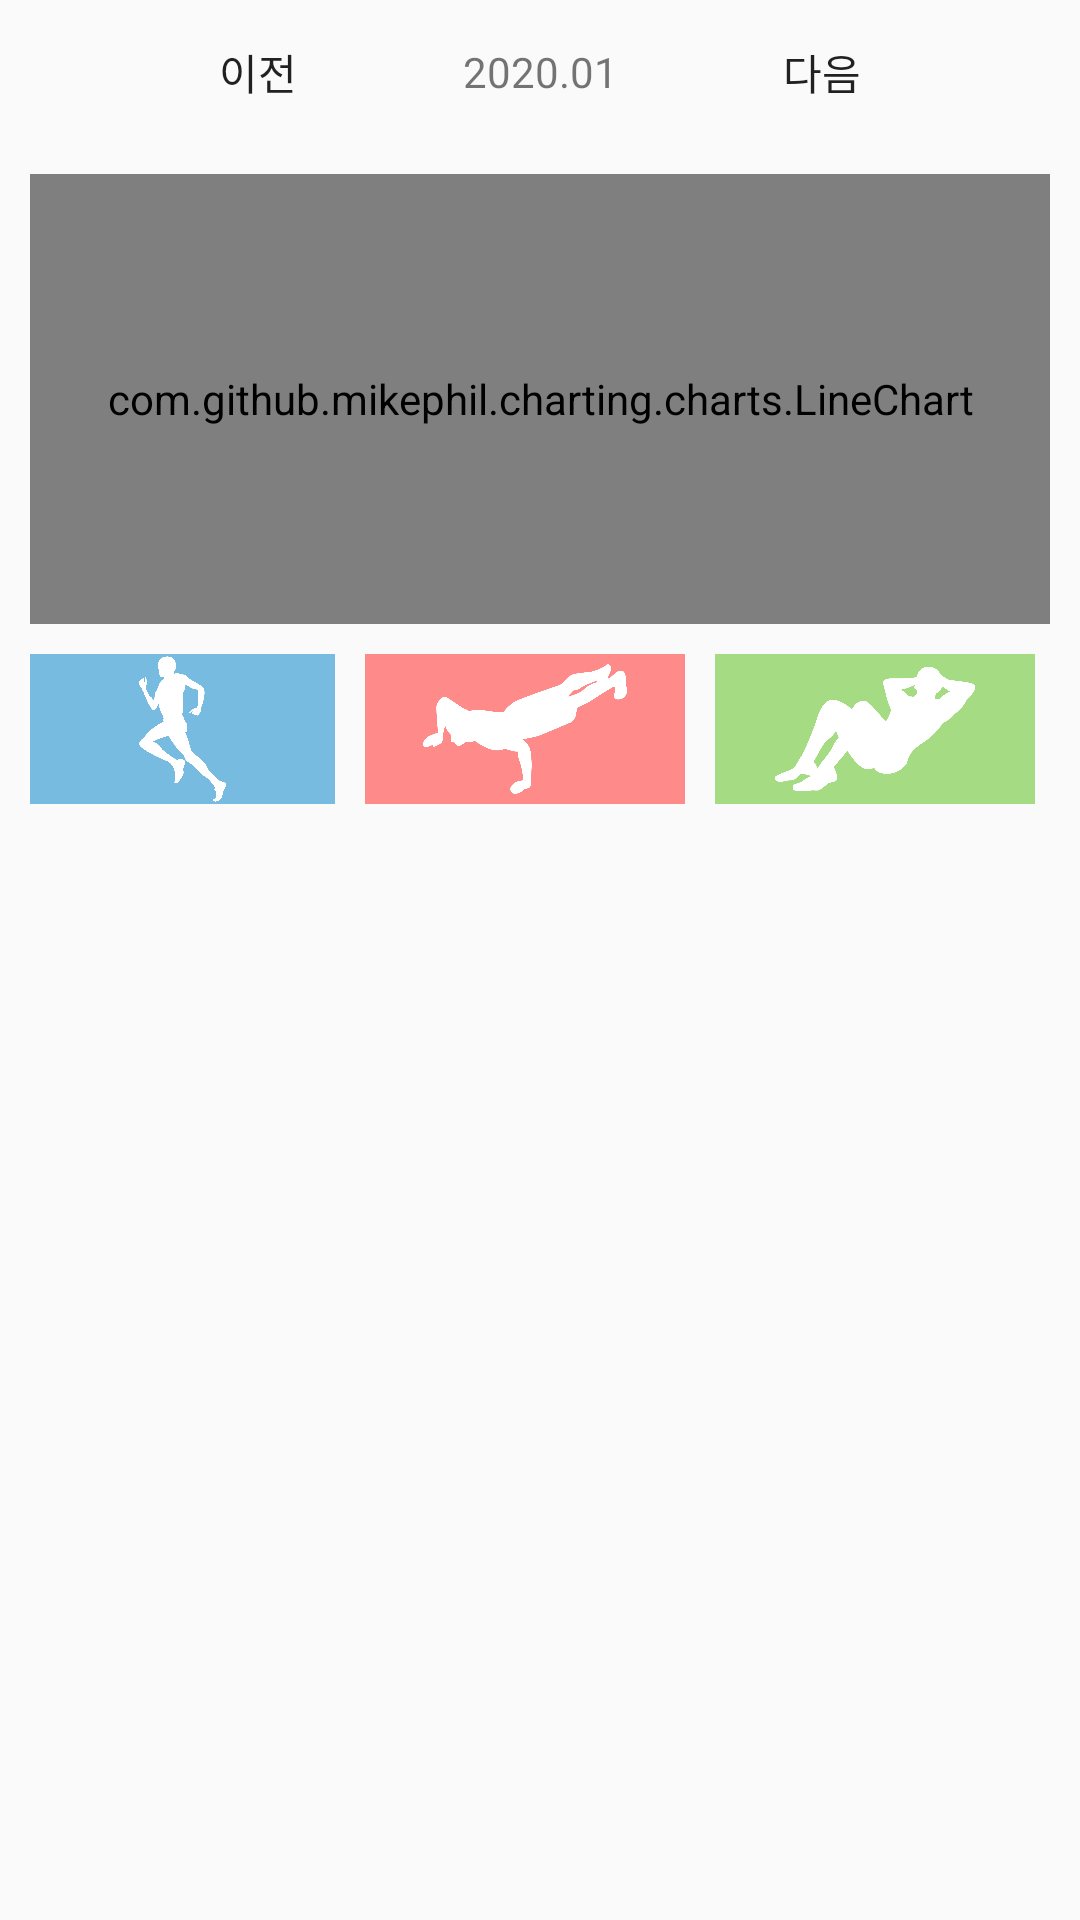

Named icons in this screenshot (1080 x 1920) and their bounding boxes, box(x1, y1, x2, y2):
달리기: box(30, 654, 335, 804)
윗몸일으키기: box(715, 654, 1035, 804)
팔굽혀펴기: box(365, 654, 685, 804)
